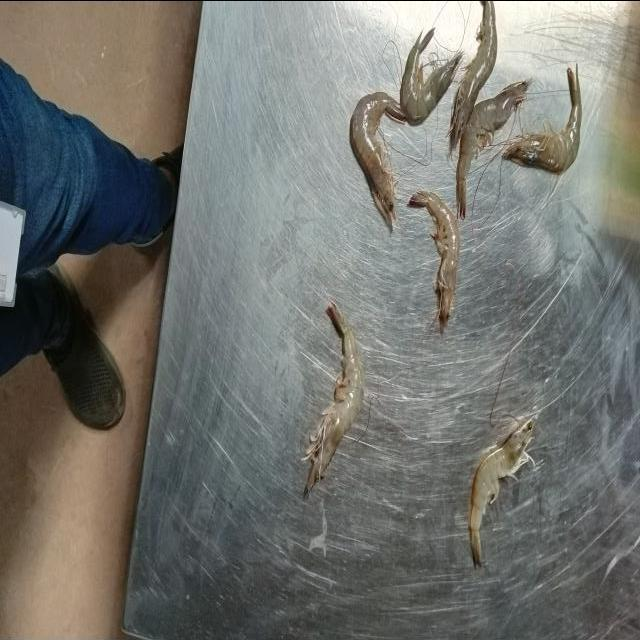shrimp: (298, 319, 359, 511), (452, 100, 526, 237), (464, 436, 531, 582), (499, 84, 578, 193), (445, 0, 494, 170), (345, 108, 402, 243), (404, 208, 455, 350), (396, 46, 459, 142), (513, 414, 514, 450)
